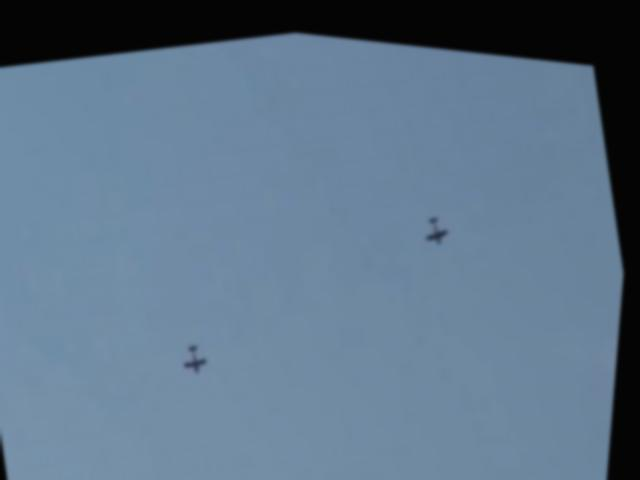uav: (177, 327, 227, 376), (417, 197, 463, 243)
